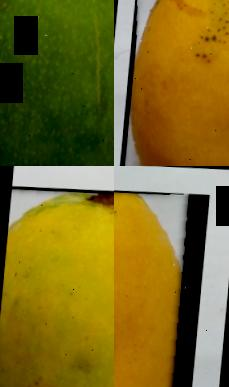PartiallyRipe: (0, 185, 114, 387)
Ripe: (118, 0, 229, 166), (114, 186, 204, 387)
Unripe: (0, 0, 114, 166)
